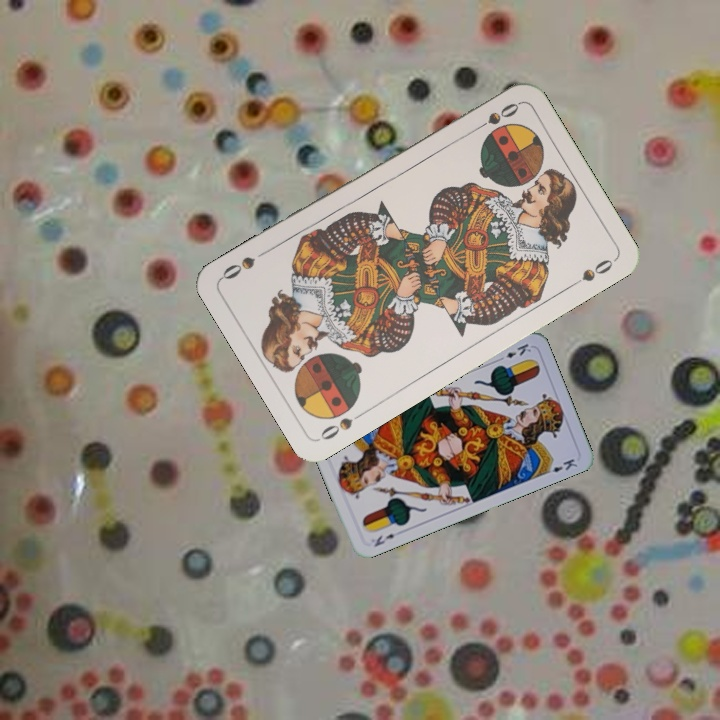EK: (494, 339, 534, 364), (370, 530, 397, 550)
SO: (468, 98, 522, 136), (316, 407, 369, 443)
